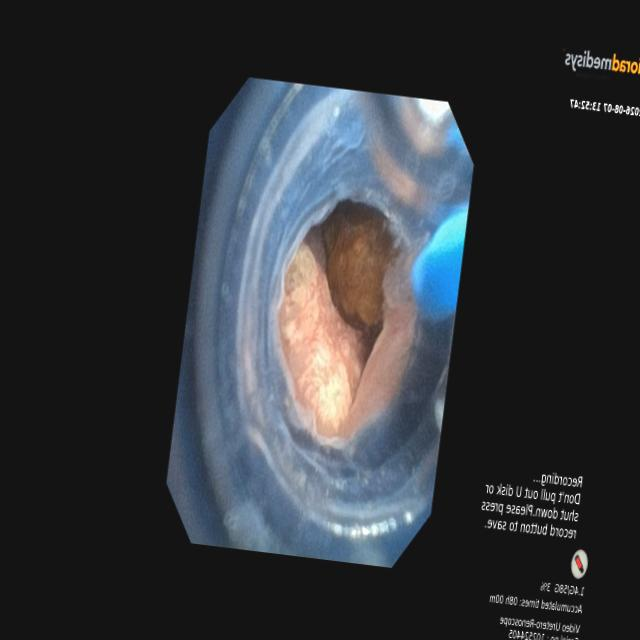laser-fibre: (383, 249, 417, 309)
stone-new: (327, 220, 392, 326)
